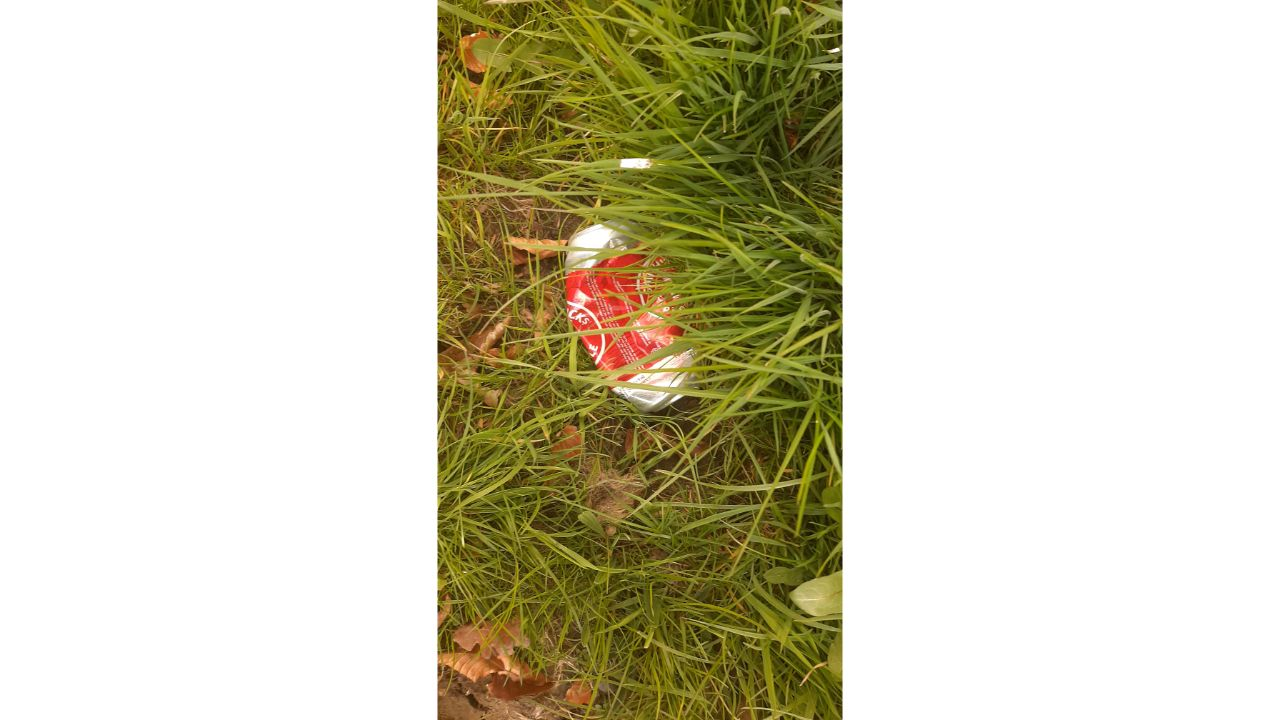Can: (554, 204, 712, 426)
